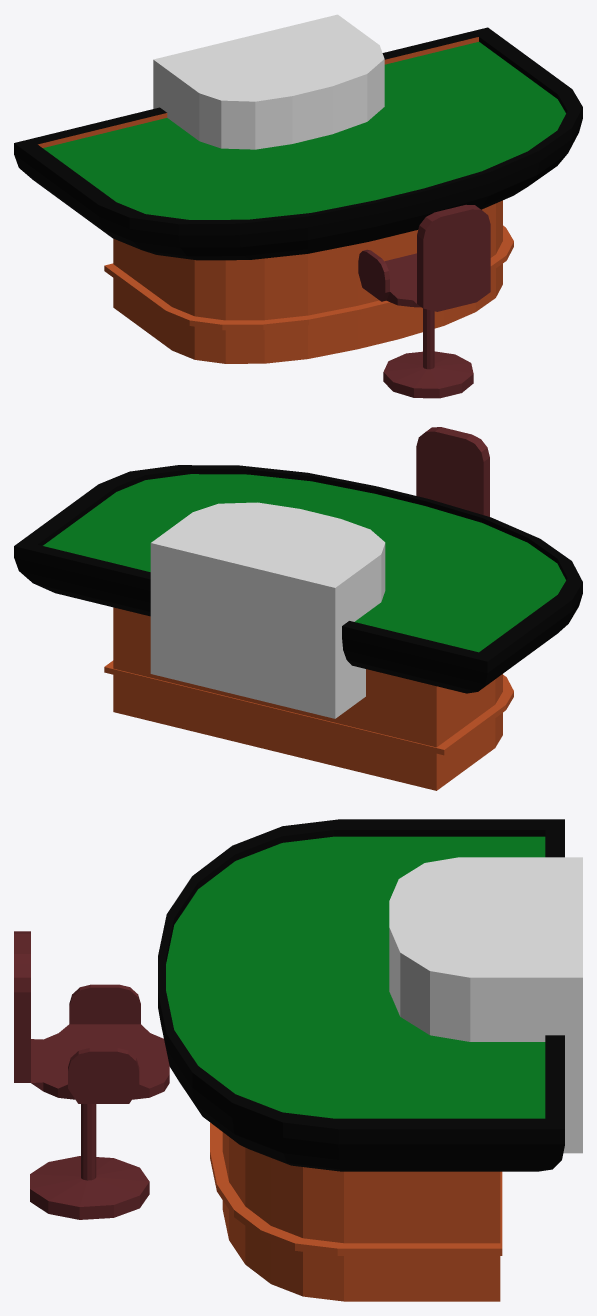
File: TableSliced.fbx
The picture shows the model from 3 angles, top to bottom: view 1: azimuth 30°, elevation 25°; view 2: azimuth 150°, elevation 25°; view 3: azimuth 270°, elevation 25°; orthographic projection. The views are drawn at different scales.
Visible parts, largest first — view 1: BaseWood, Cube, BaseChair; view 2: BaseWood, Cube, BaseChair; view 3: BaseWood, Cube, BaseChair.
Part boxes in pixels (box(x1,y1,x2,y2)): BaseWood: box(14, 27, 582, 363); Cube: box(153, 14, 384, 149); BaseChair: box(358, 204, 490, 398); BaseWood: box(14, 465, 582, 790); Cube: box(150, 502, 385, 718); BaseChair: box(416, 427, 489, 516); BaseWood: box(158, 819, 564, 1301); Cube: box(389, 857, 582, 1153); BaseChair: box(14, 931, 169, 1219).
Size of the model in its own units: 36000 by 15125 by 27942.
